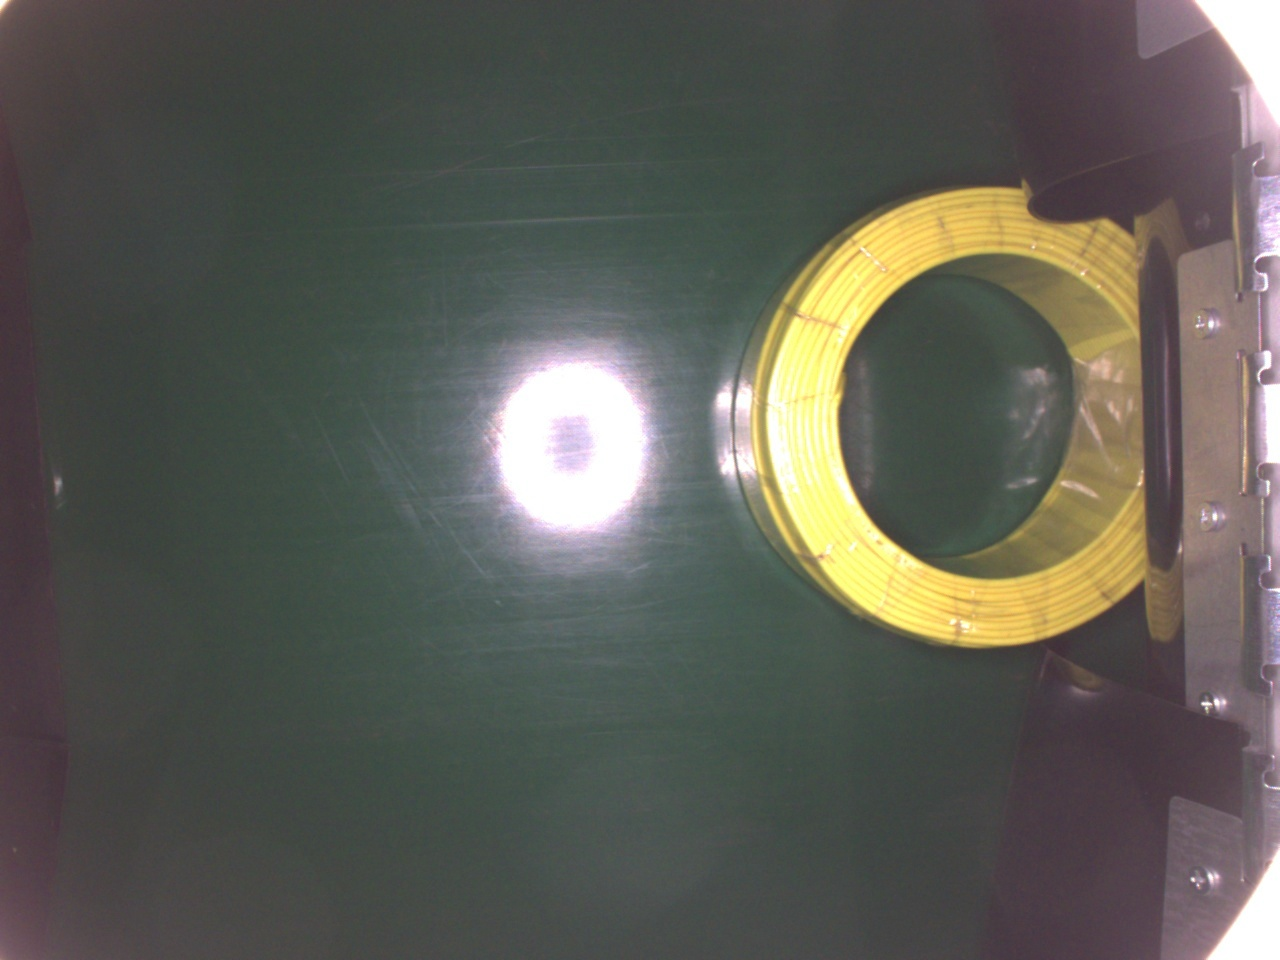yellow: (729, 185, 1157, 656)
